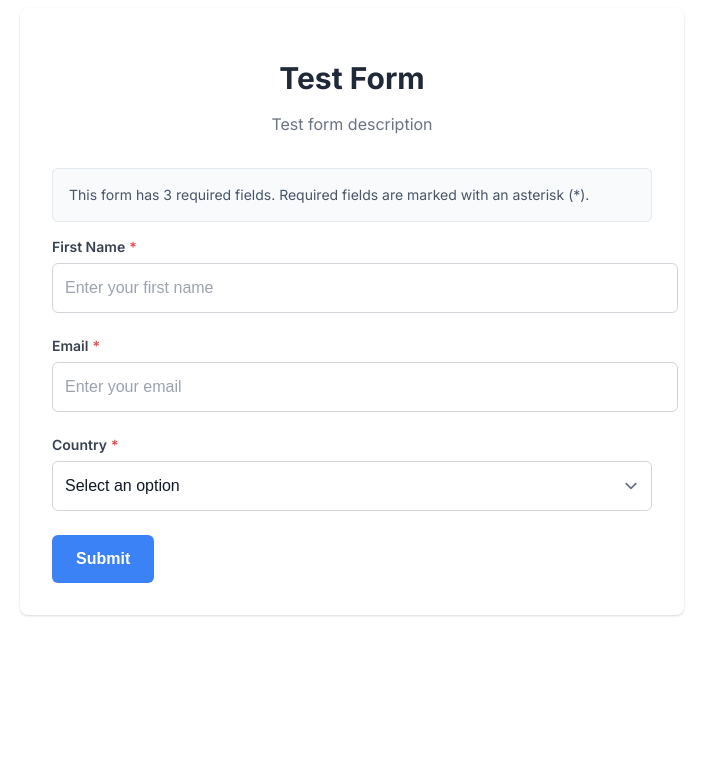
Scenario: Form Component › clears errors when user starts typing
Click the button "Submit": (103, 559) [52,535,154,583]
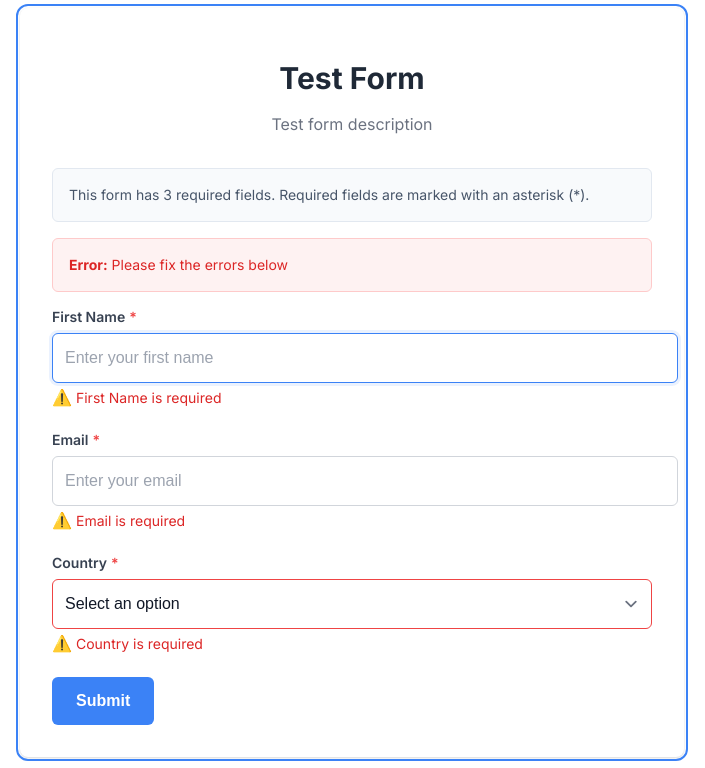
Result: the text "Please fix the errors below" is shown at [112,256,288,273]
In the field labelled "First Name*": (365, 358) [52,333,678,383], type "John"
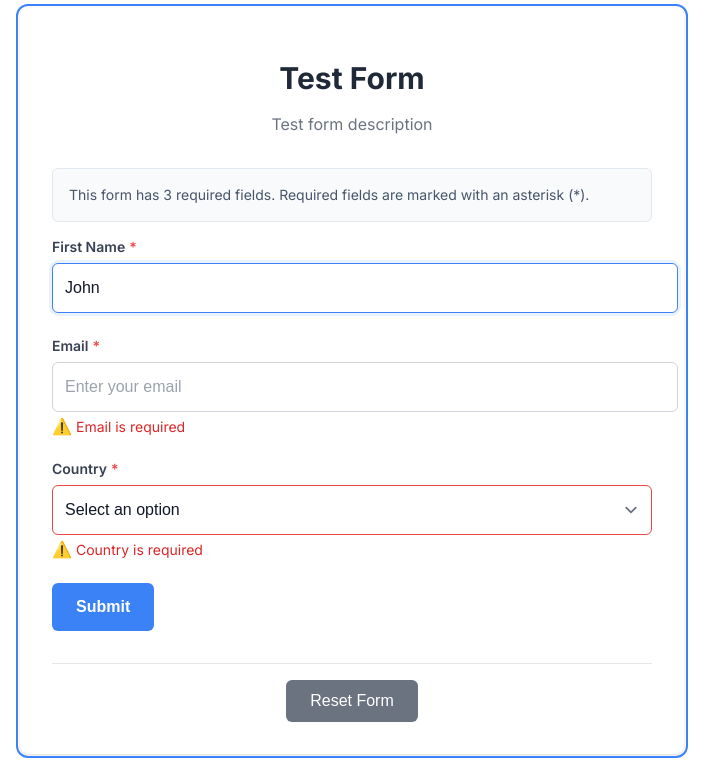
Result: the text "Please fix the errors below" is gone
